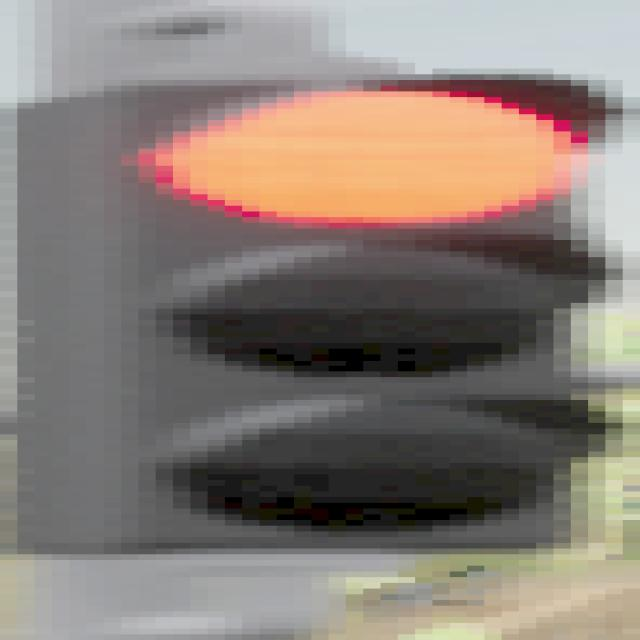red_light: (8, 71, 640, 553)
